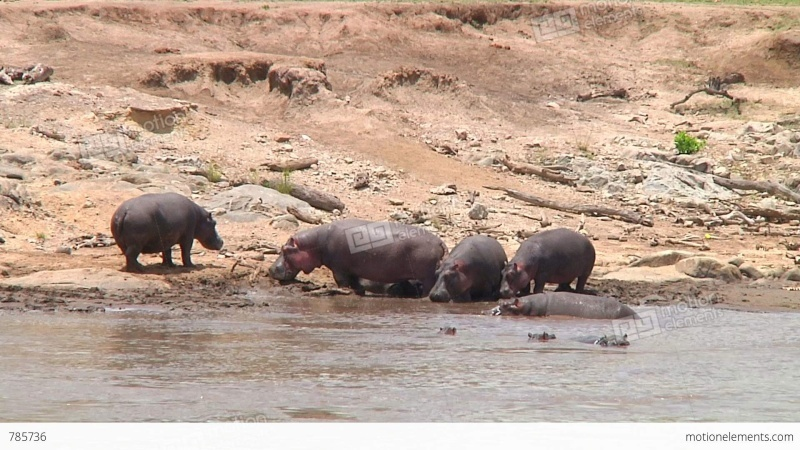hipopotamo: (265, 216, 446, 302), (109, 189, 227, 267), (489, 287, 640, 329), (430, 233, 509, 309), (500, 233, 598, 292)
